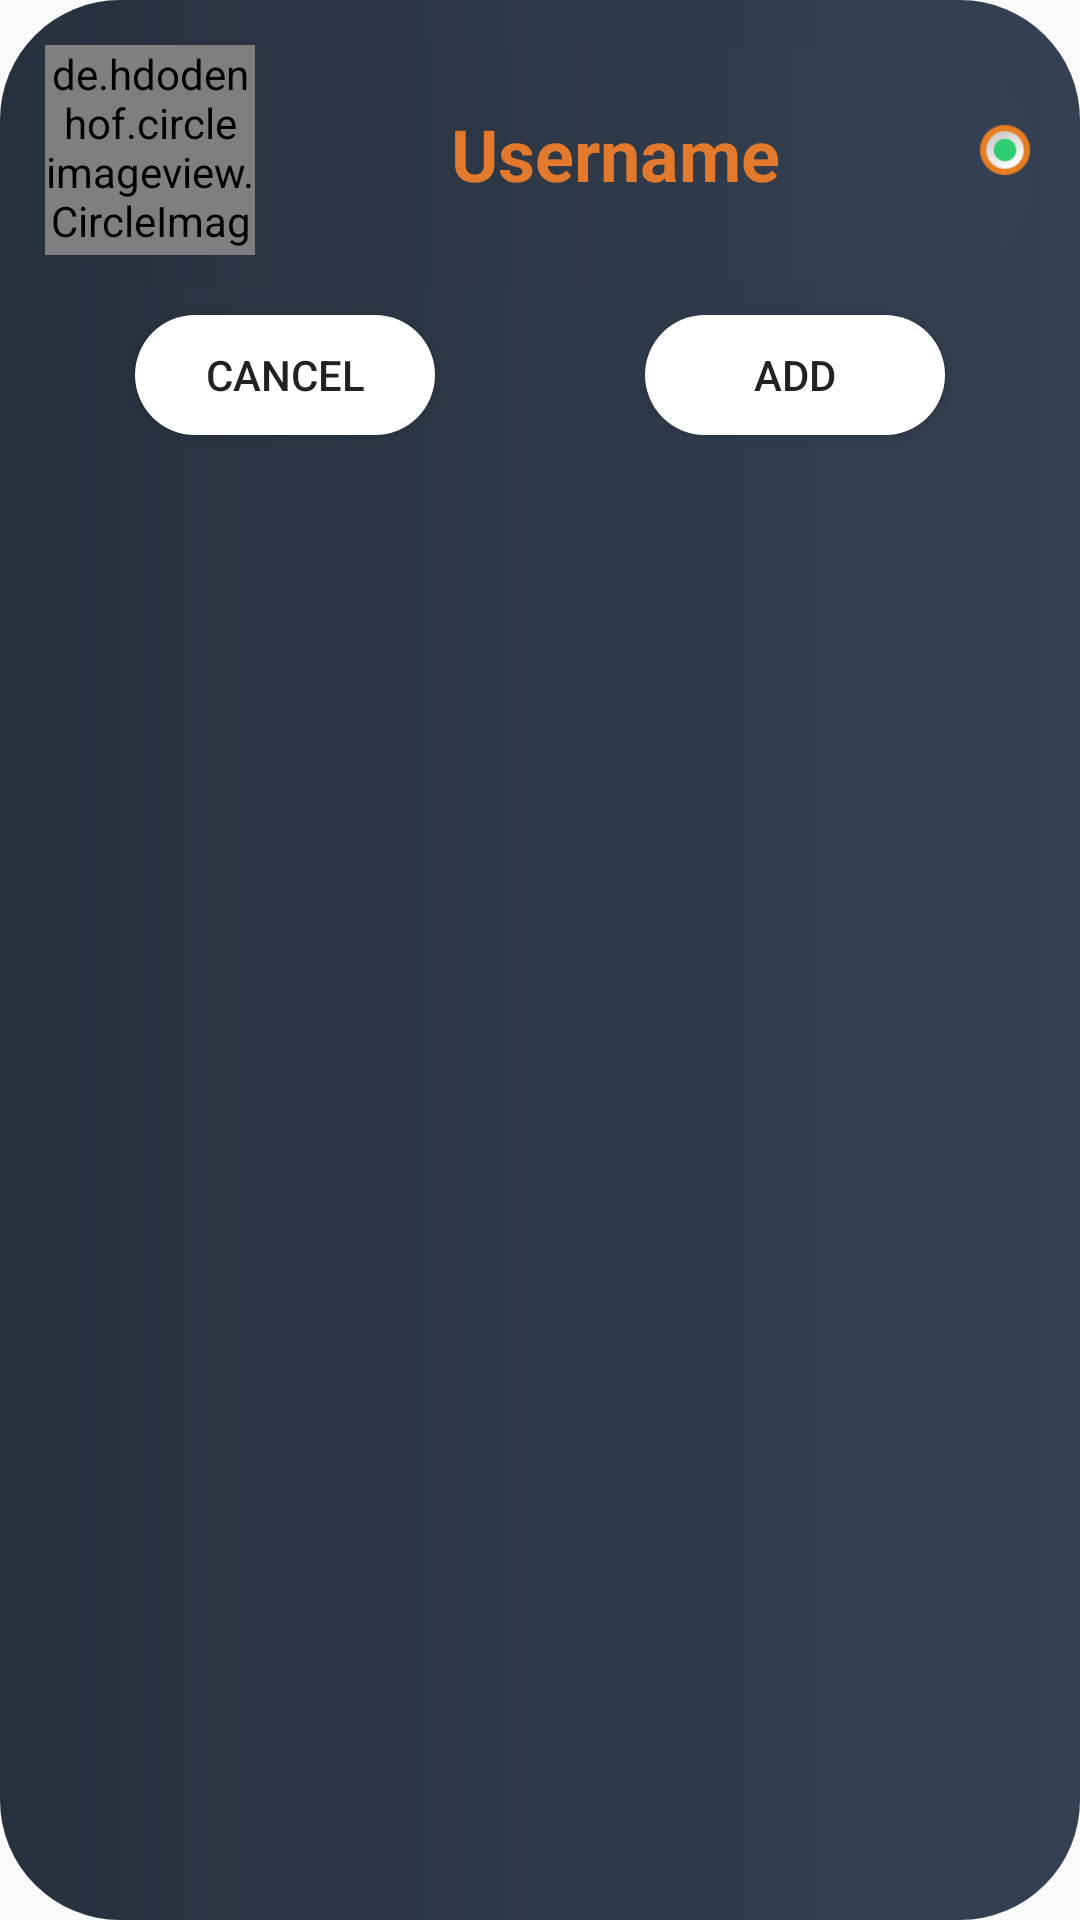

Icon bounding boxes for this 1080px x 1920px phone screenshot, format (x1, y1, x2, y2):
status: (980, 125, 1030, 175)
